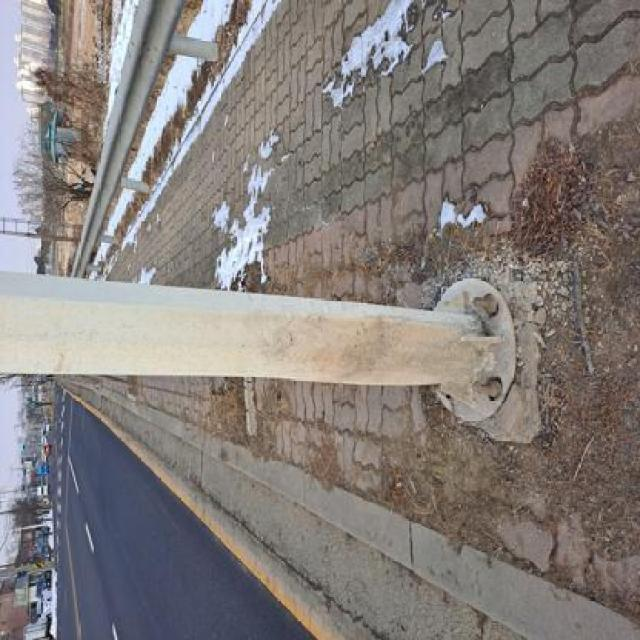pole: (0, 258, 528, 436)
